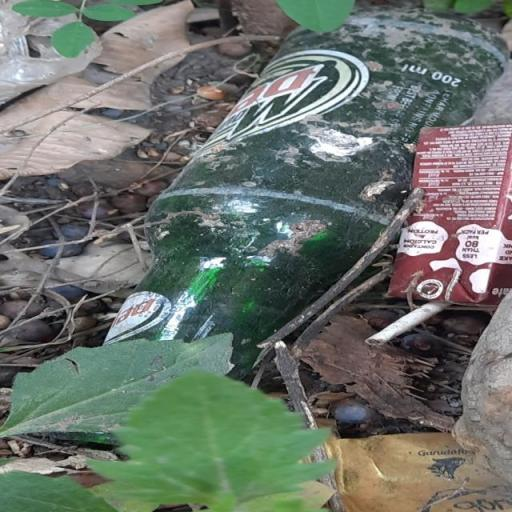glass: (46, 4, 482, 435)
